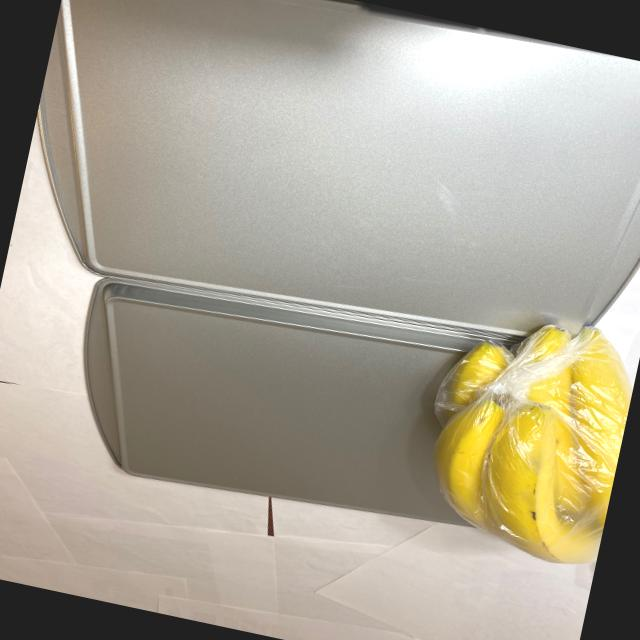banana: (404, 288, 640, 575)
